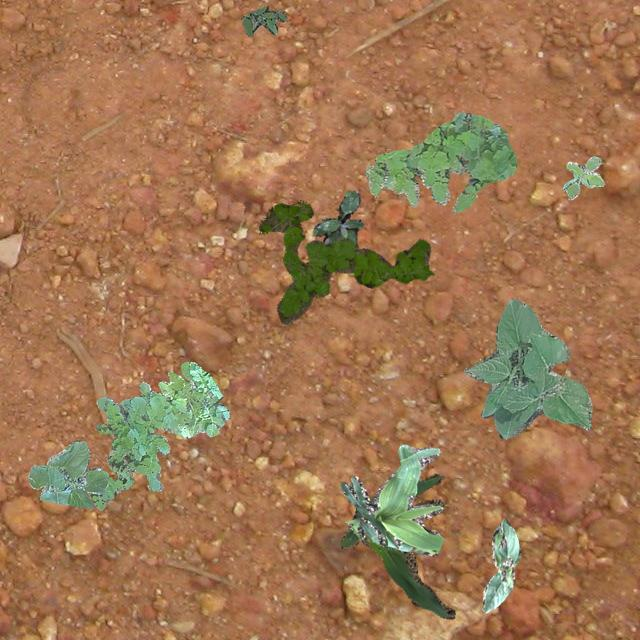crop: (464, 298, 592, 438), (339, 472, 454, 618), (340, 444, 442, 554), (27, 440, 108, 508), (480, 518, 520, 612)
weed: (258, 200, 432, 324), (90, 360, 228, 510), (364, 111, 516, 212), (312, 190, 362, 243), (562, 154, 604, 198), (240, 4, 286, 36)
